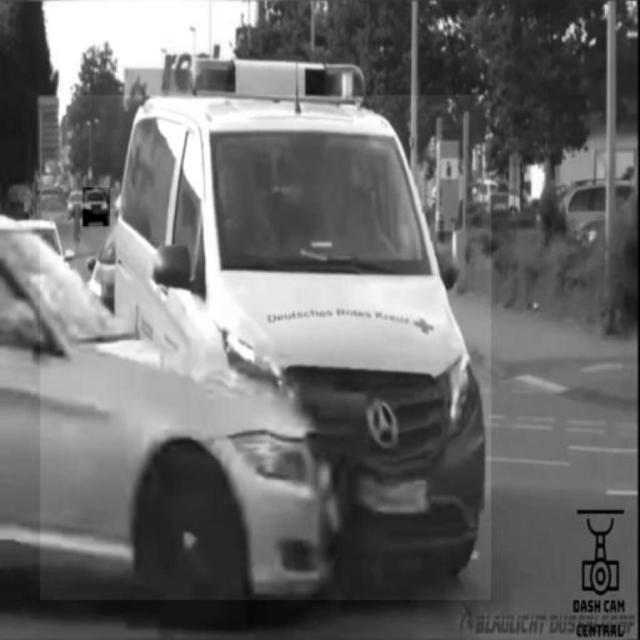accident: (41, 95, 492, 601)
vehicle: (83, 188, 110, 226)
